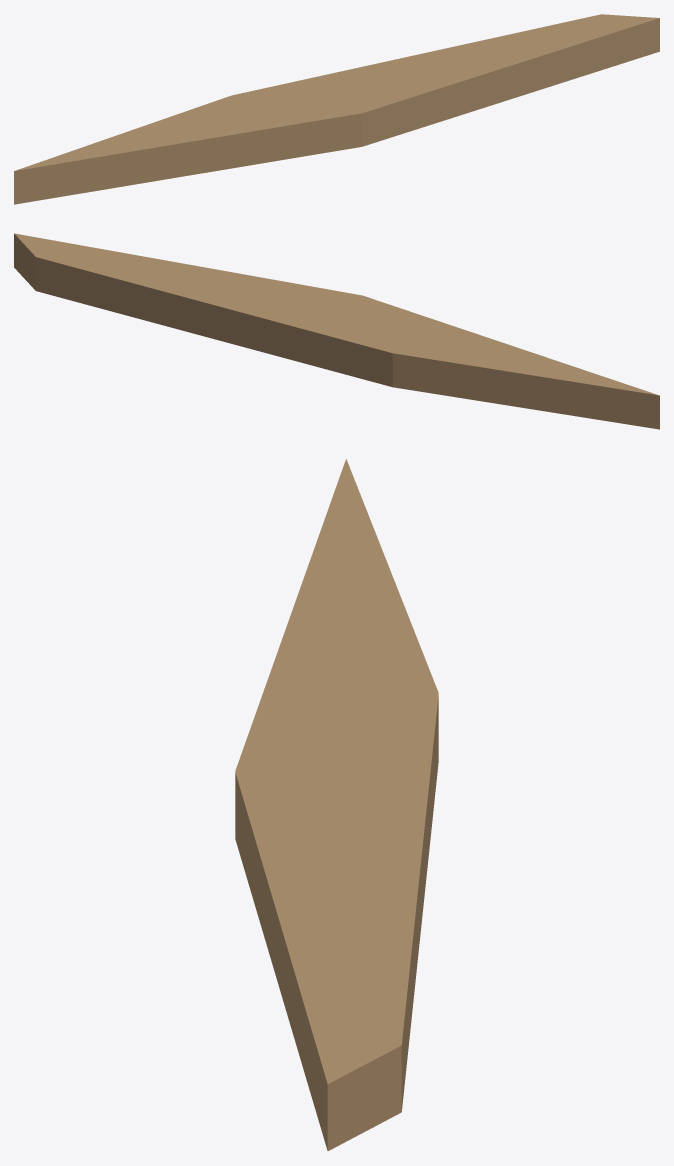
The model's file is splinter.glb.
The picture shows the model from 3 angles, top to bottom: view 1: azimuth 30°, elevation 25°; view 2: azimuth 150°, elevation 25°; view 3: azimuth 270°, elevation 25°; orthographic projection. The views are drawn at different scales.
Parts seen in each view (by area): view 1: splinter; view 2: splinter; view 3: splinter.
Boxes of the visible parts, box(x1,y1,x2,y2) form: splinter: box(14, 14, 659, 204); splinter: box(14, 233, 659, 429); splinter: box(235, 459, 438, 1150).
Size of the model in its own units: 0.08 by 0.004 by 0.011.
